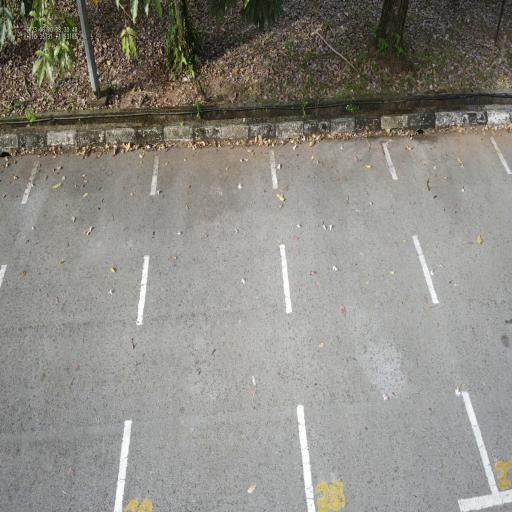Empty: (106, 129, 323, 512)
